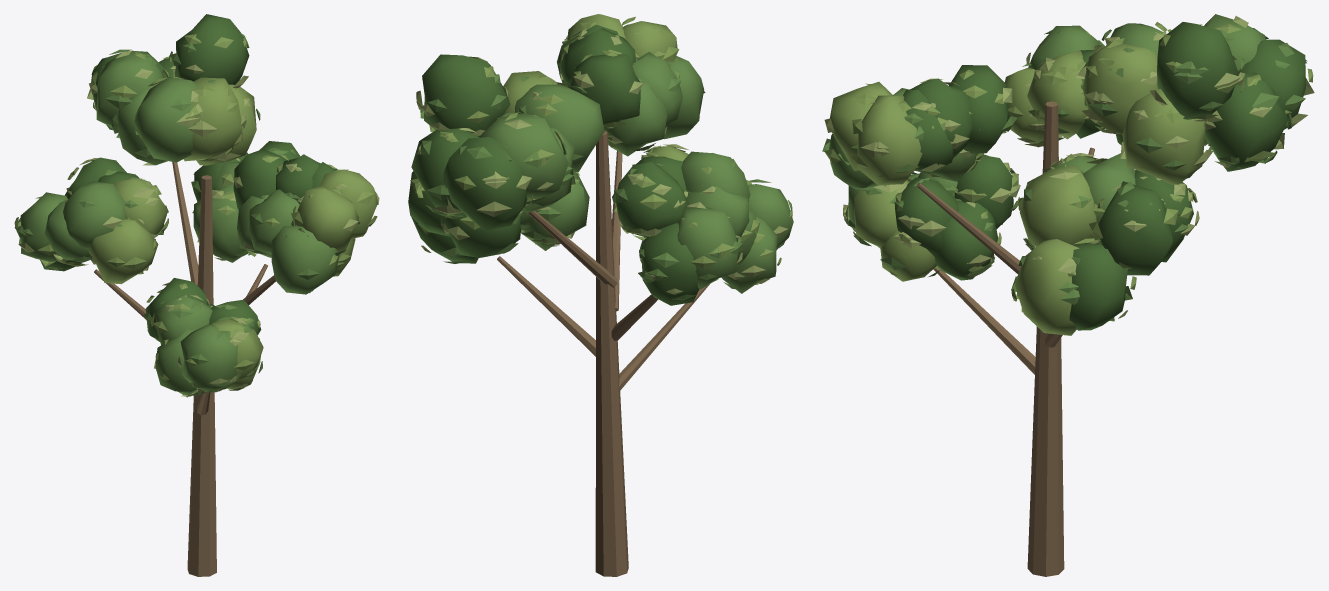
Rendered from broadleaf-b.glb.
The picture shows the model from 3 angles, left to right: view 1: azimuth 30°, elevation 25°; view 2: azimuth 150°, elevation 25°; view 3: azimuth 270°, elevation 25°; orthographic projection. The views are drawn at different scales.
Visible parts, largest first — view 1: broadleaf-b; view 2: broadleaf-b; view 3: broadleaf-b.
Part boxes in pixels (box(x1,y1,x2,y2)): broadleaf-b: box(14, 14, 379, 576); broadleaf-b: box(408, 14, 793, 576); broadleaf-b: box(822, 14, 1314, 576).
Bounding box in the file's own units: 4.36 × 6.7 × 5.1.
